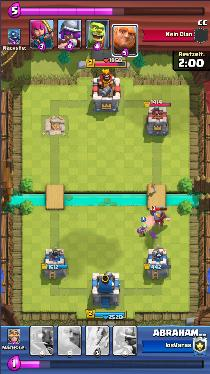ally_spear_goblin: (137, 224, 149, 236)
enemy_knight: (150, 211, 169, 226)
